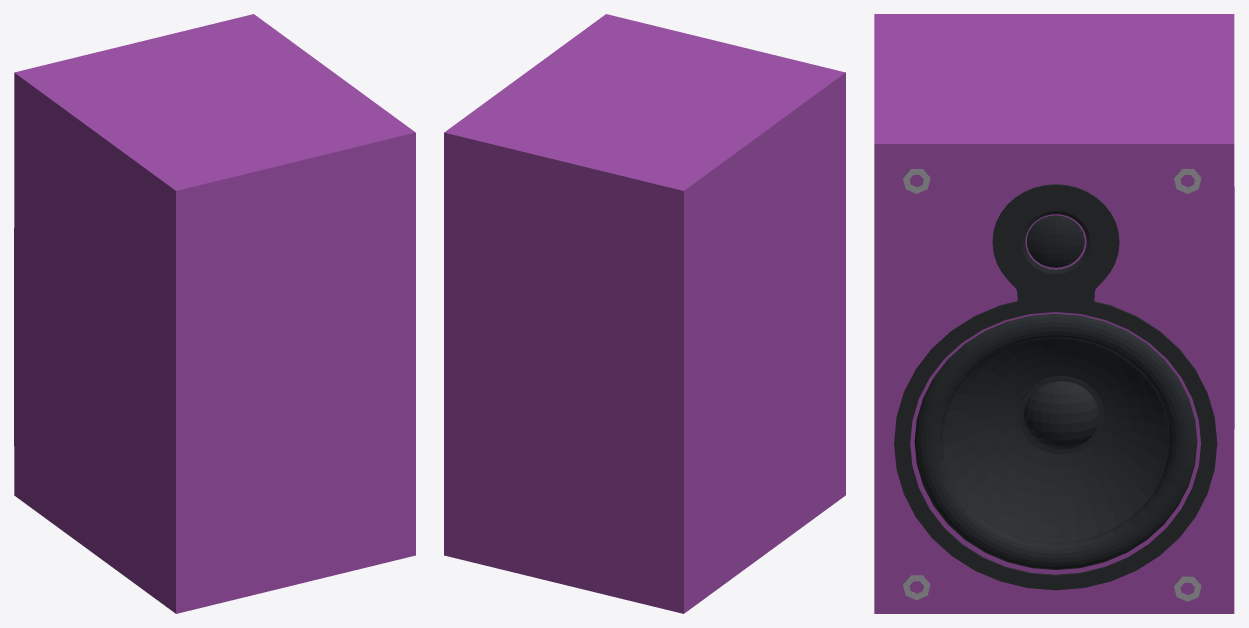
The model's file is bocina.obj.
3 views of the same model, side by side, from view 1: azimuth 30°, elevation 25°; view 2: azimuth 150°, elevation 25°; view 3: azimuth 270°, elevation 25° (orthographic). The views are drawn at different scales.
Parts seen in each view (by area): view 1: CASSE:CASSA polySurface69, CASSE:CASSA CASSE:Plane polySurface69; view 2: CASSE:CASSA polySurface69, CASSE:CASSA CASSE:Plane polySurface69; view 3: CASSE:CASSA polySurface69.
Part boxes in pixels (left/top/right/bottom): CASSE:CASSA polySurface69: left=14, top=14, right=415, bottom=613; CASSE:CASSA CASSE:Plane polySurface69: left=14, top=228, right=152, bottom=525; CASSE:CASSA polySurface69: left=444, top=14, right=845, bottom=613; CASSE:CASSA CASSE:Plane polySurface69: left=684, top=285, right=822, bottom=542; CASSE:CASSA polySurface69: left=874, top=14, right=1234, bottom=613.
Bounding box in the file's own units: 37.93 × 62.58 × 43.48.
4 materials, 3 textured.
